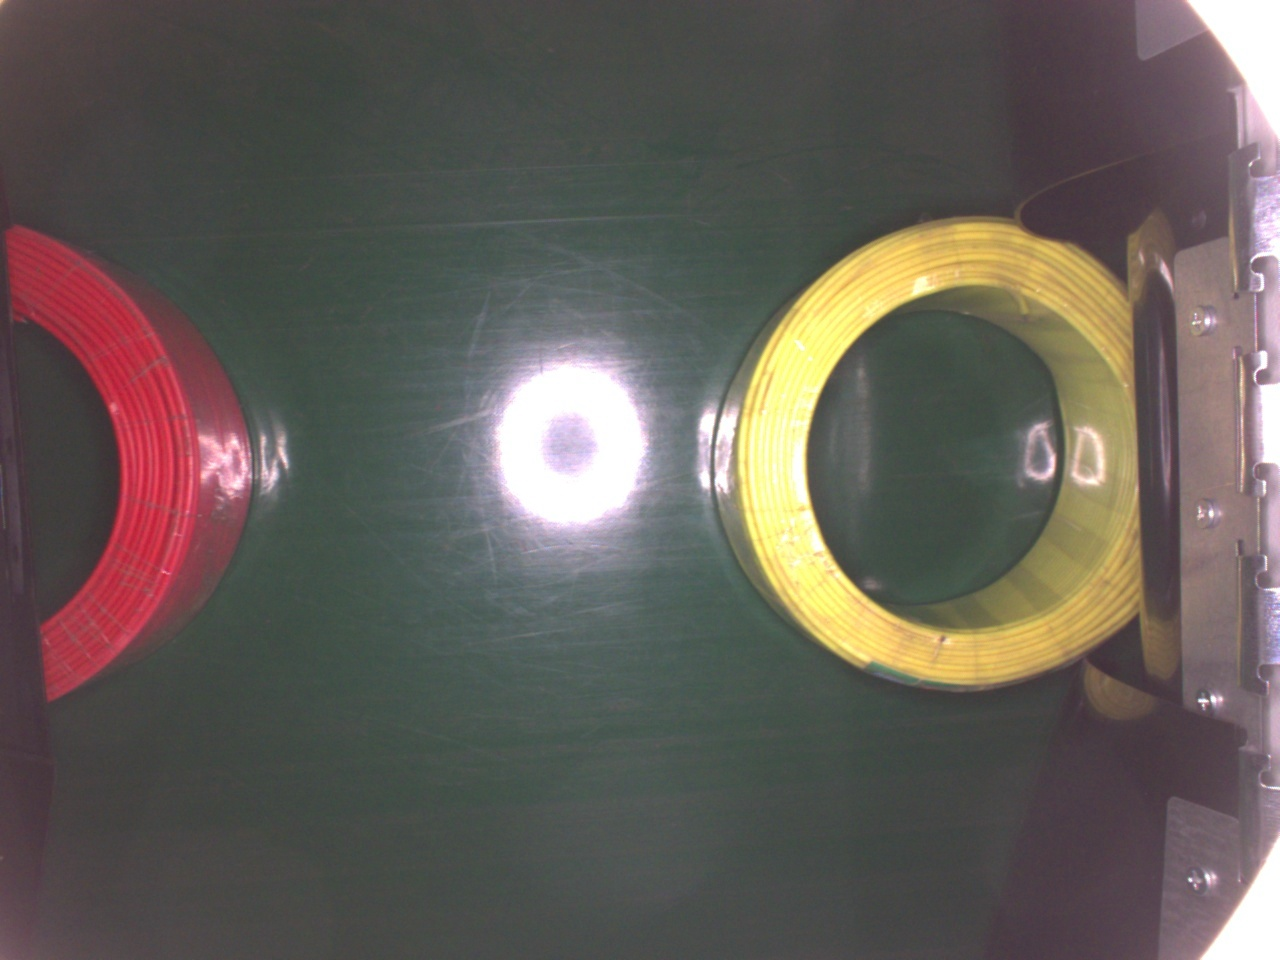red: (1, 214, 258, 712)
yellow: (712, 214, 1141, 698)
